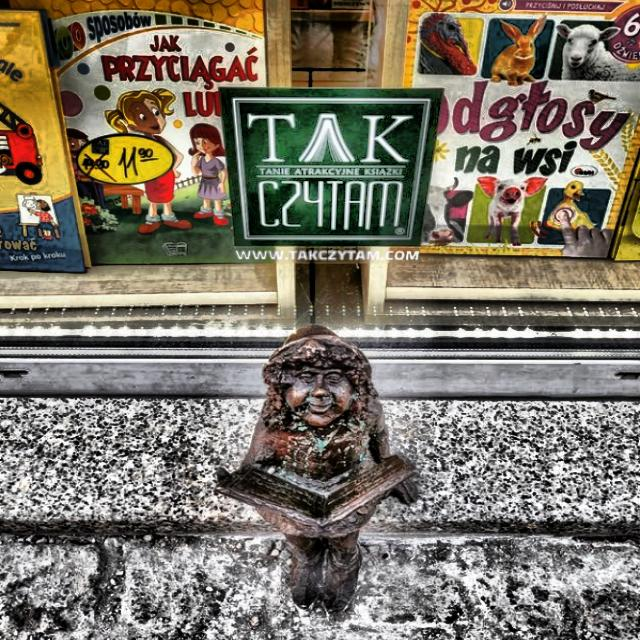Ksiegarka: (210, 320, 430, 624)
